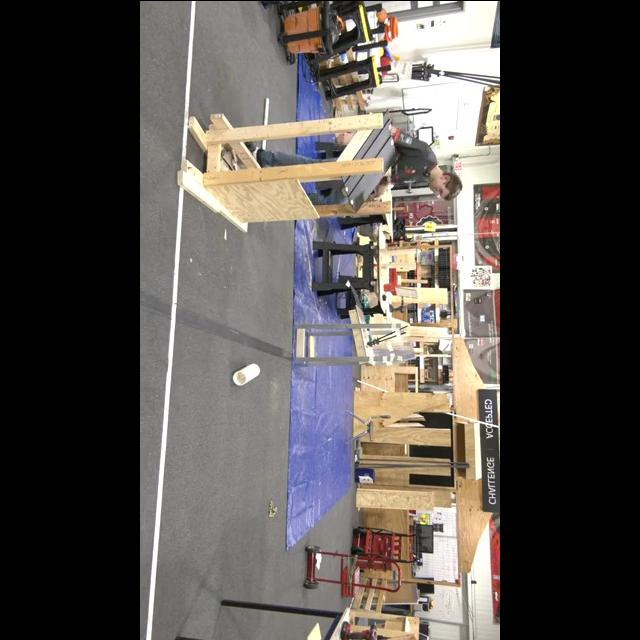CORAL: (234, 362, 262, 386)
